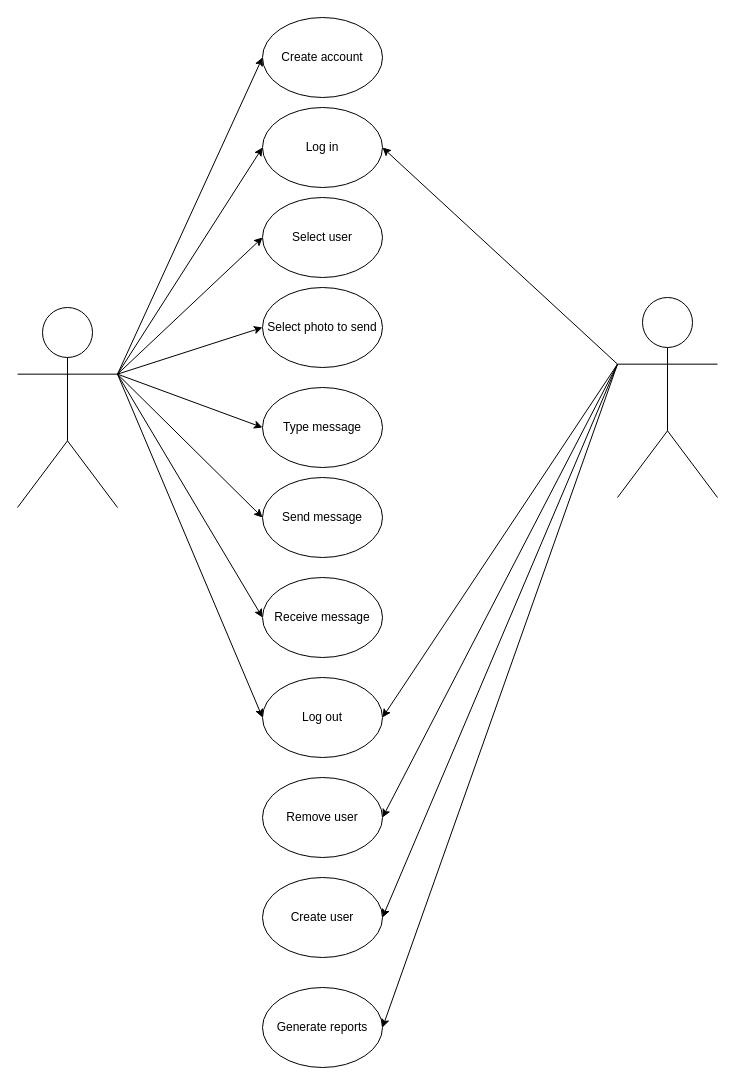
Some shapes in this 735 by 1085 pixel diagram are drawn without their labels. Each missing label, with the box of its shape:
Admin: (616, 296, 718, 498)
User: (16, 306, 118, 508)
